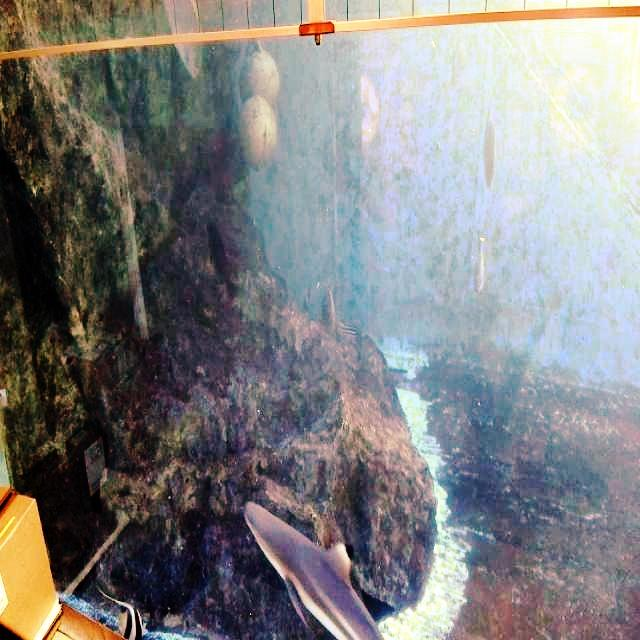Plectorhinchus lessonii: (336, 311, 366, 353)
shark: (234, 480, 423, 640)
